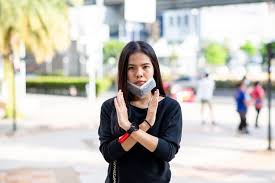mask_weared_incorrect: (123, 49, 158, 101)
